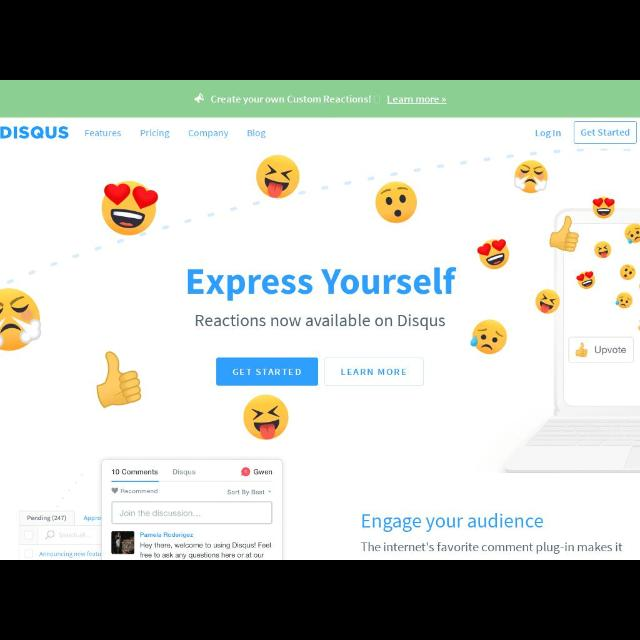icon: (44, 530, 54, 540), (194, 95, 203, 104), (112, 487, 118, 493), (268, 490, 272, 494)
image: (1, 126, 69, 140), (112, 532, 134, 552)
input: (112, 502, 272, 526)
spinner: (223, 484, 277, 498)
text: (188, 269, 456, 295), (196, 314, 444, 328), (362, 514, 544, 532), (361, 542, 623, 554), (141, 543, 271, 559), (210, 96, 372, 104), (119, 508, 204, 518), (232, 369, 302, 377), (339, 369, 407, 377), (387, 96, 448, 104), (140, 532, 192, 540), (581, 130, 631, 138), (226, 488, 264, 498), (40, 551, 102, 557), (112, 469, 158, 477), (86, 129, 120, 139), (189, 129, 229, 137), (120, 488, 160, 496), (140, 130, 170, 138), (535, 130, 561, 138), (246, 129, 266, 139), (172, 468, 194, 476), (26, 516, 66, 520), (82, 514, 102, 522), (255, 469, 273, 476)
textbutton: (216, 356, 318, 384), (325, 358, 423, 384), (576, 121, 638, 143)
